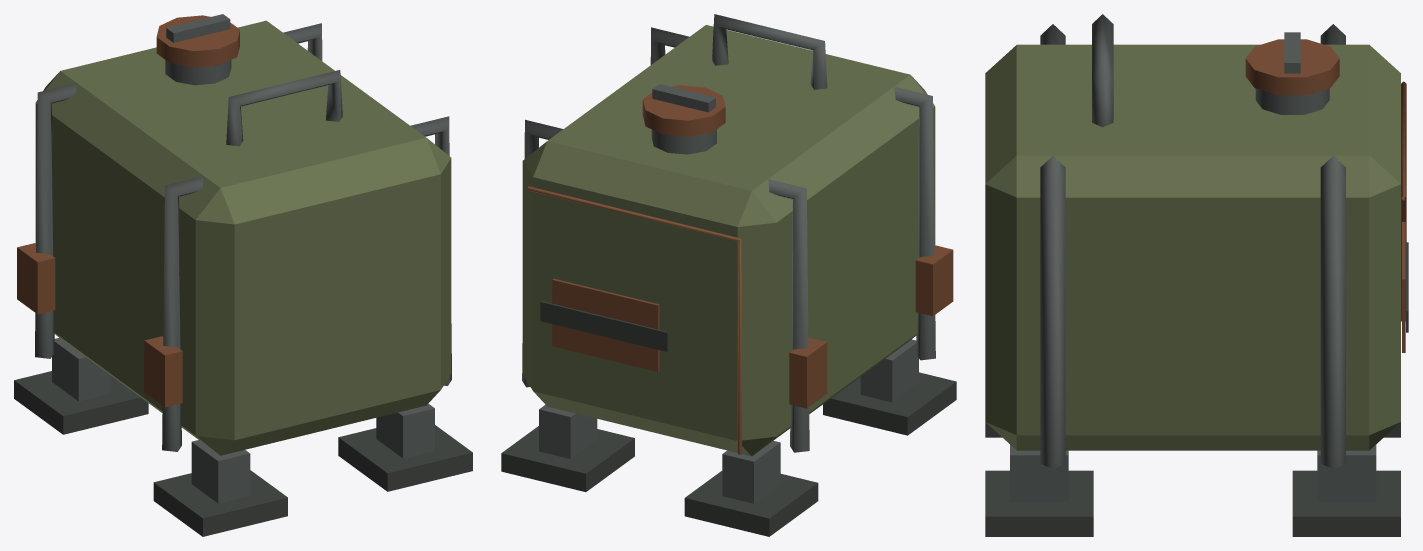
Rendered from zastava_101_upgrade_tank.glb.
The picture shows the model from 3 angles, left to right: view 1: azimuth 30°, elevation 25°; view 2: azimuth 150°, elevation 25°; view 3: azimuth 270°, elevation 25°; orthographic projection. The views are drawn at different scales.
Parts seen in each view (by area): view 1: zastava_101_upgrade_tank; view 2: zastava_101_upgrade_tank; view 3: zastava_101_upgrade_tank.
Part boxes in pixels (x1=…): zastava_101_upgrade_tank: x1=14, y1=14, x2=472, y2=536; zastava_101_upgrade_tank: x1=501, y1=14, x2=956, y2=536; zastava_101_upgrade_tank: x1=985, y1=14, x2=1408, y2=536.
Size of the model in its own units: 0.4185 by 0.513 by 0.4685.
